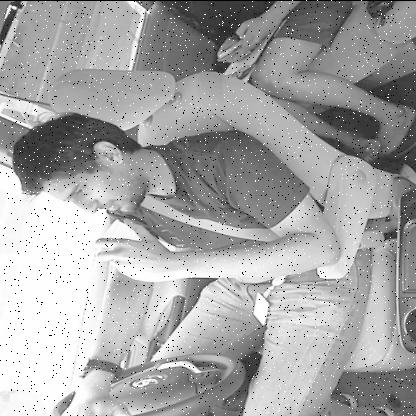seatbelt: (2, 90, 242, 246)
